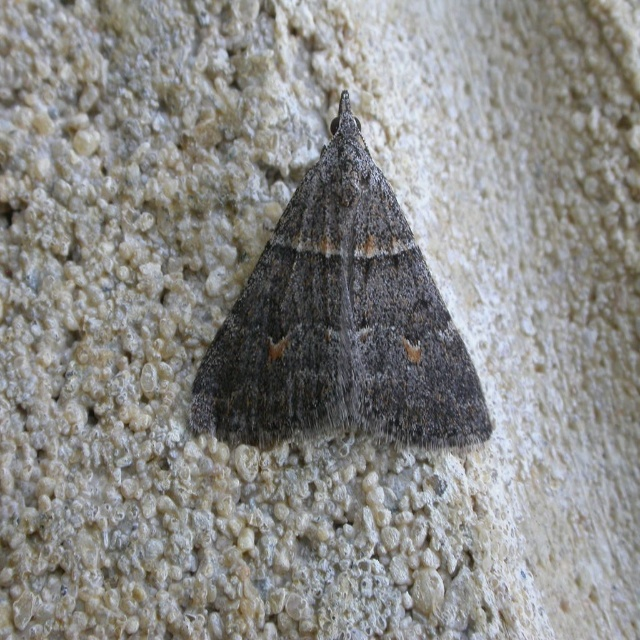Moths and butterflies: (186, 83, 493, 455)
